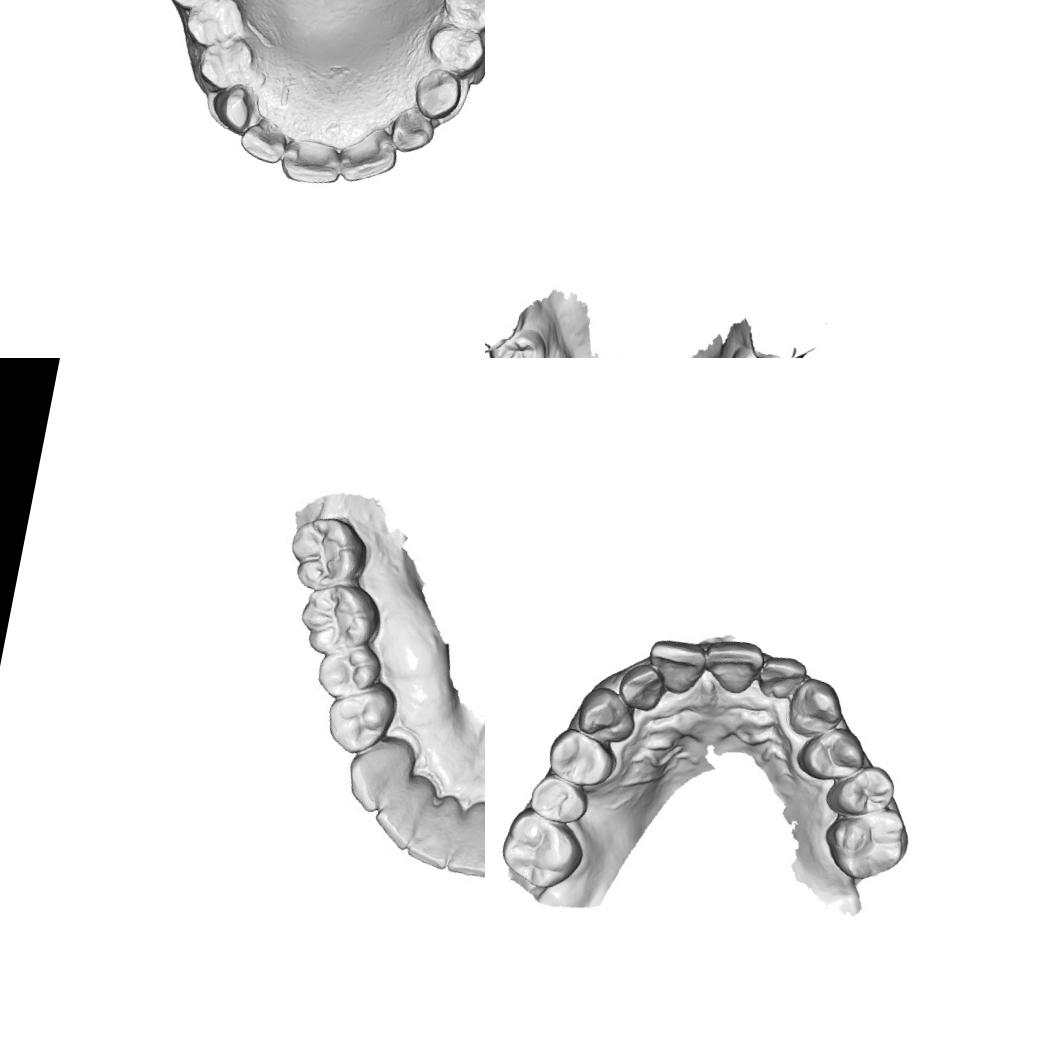canine: (340, 736, 414, 815), (782, 673, 850, 742), (572, 682, 641, 748), (408, 64, 464, 124), (206, 79, 259, 136)
incisor: (368, 770, 436, 854), (698, 632, 768, 698), (640, 632, 709, 698), (334, 126, 401, 190), (276, 134, 350, 191), (410, 788, 460, 866), (614, 657, 668, 714), (754, 650, 809, 705), (446, 796, 485, 873), (384, 104, 438, 158), (236, 115, 288, 165)
molar: (494, 802, 590, 894), (816, 796, 910, 888), (293, 580, 378, 658), (286, 512, 366, 588), (153, 0, 237, 18)
premolar: (792, 719, 871, 788), (541, 724, 620, 792), (821, 758, 899, 826), (192, 28, 262, 95), (327, 686, 394, 756), (526, 768, 593, 828), (179, 0, 252, 55), (421, 20, 485, 81), (316, 648, 378, 704), (485, 320, 552, 358), (436, 0, 485, 36), (722, 344, 790, 358)
